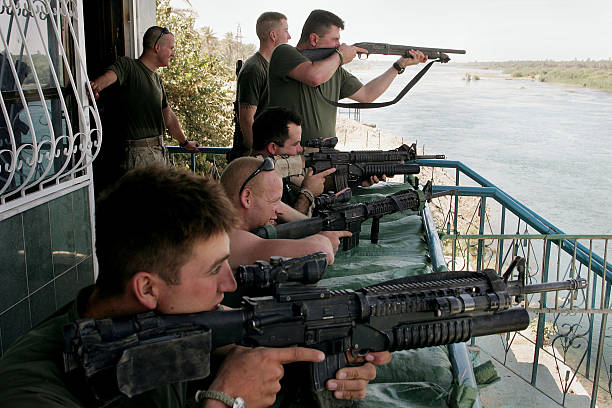rifle: (71, 265, 595, 399), (287, 176, 464, 258), (294, 143, 449, 199)
